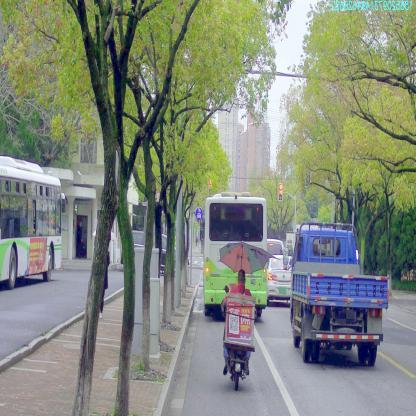traffic-light: (209, 176, 213, 195), (279, 184, 283, 200)
